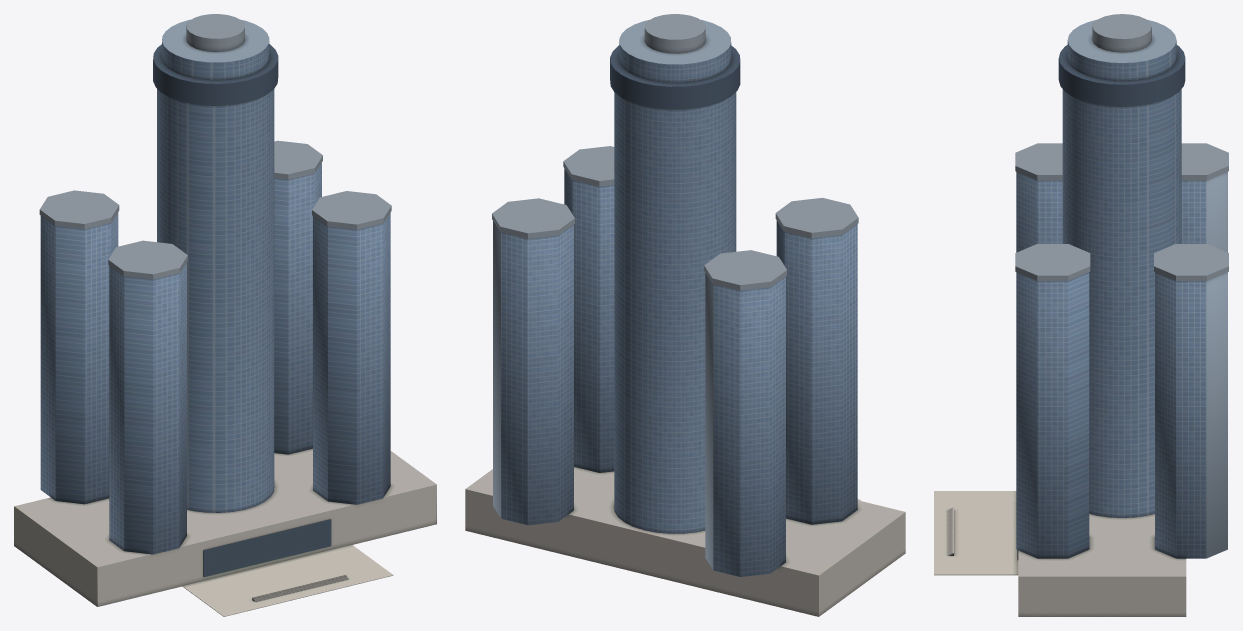
The model's file is ren_cen.glb.
3 renders of one model, left to right at view 1: azimuth 30°, elevation 25°; view 2: azimuth 150°, elevation 25°; view 3: azimuth 270°, elevation 25°, orthographic. The views are drawn at different scales.
Visible parts, largest first — view 1: ren_cen; view 2: ren_cen; view 3: ren_cen.
Part boxes in pixels (x1,y1,x2,y2): ren_cen: (14,14,436,616); ren_cen: (465,14,905,616); ren_cen: (934,14,1228,616).
Bounding box in the file's own units: 80 × 113 × 59.58.
1 material, 1 textured.
